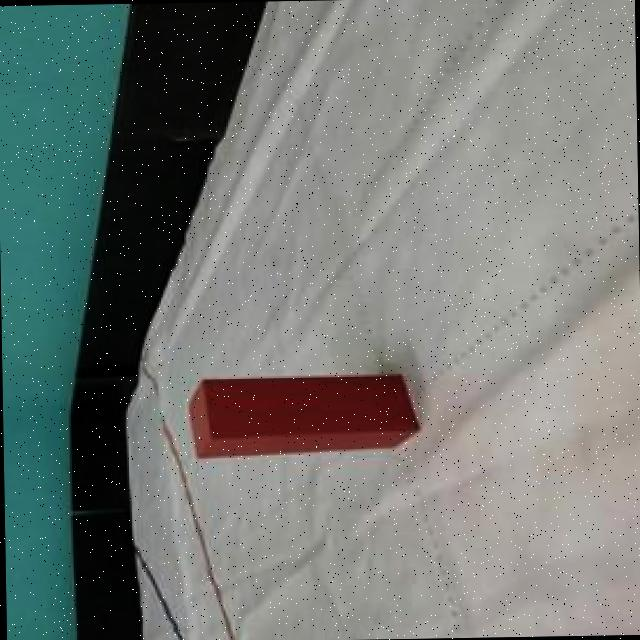redbox: (183, 376, 418, 458)
